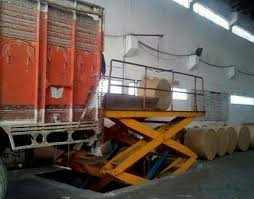Scissor Lift: (55, 58, 207, 190)
